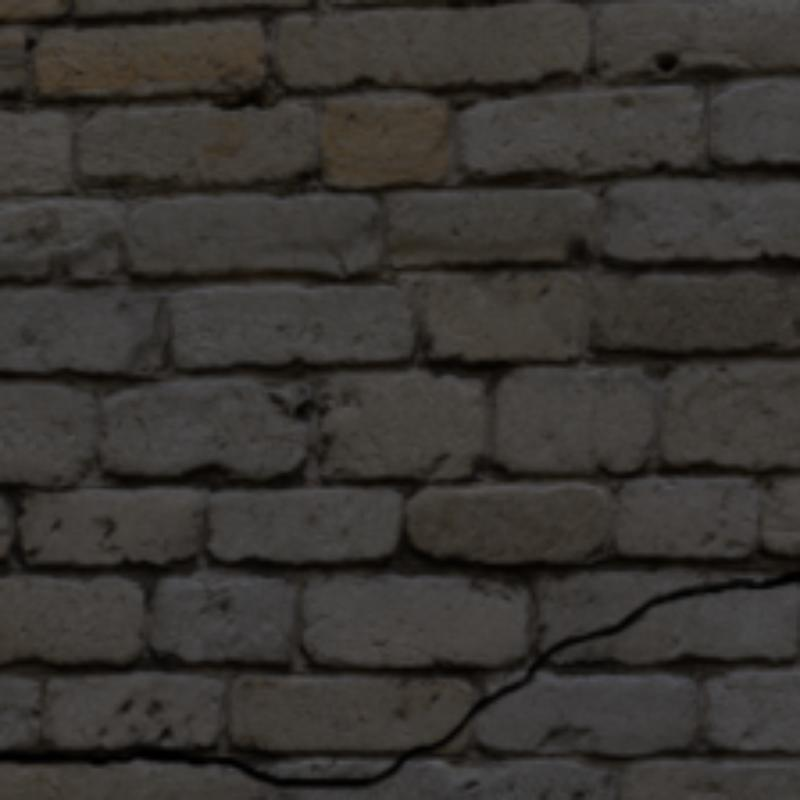pothole: (0, 571, 796, 782)
